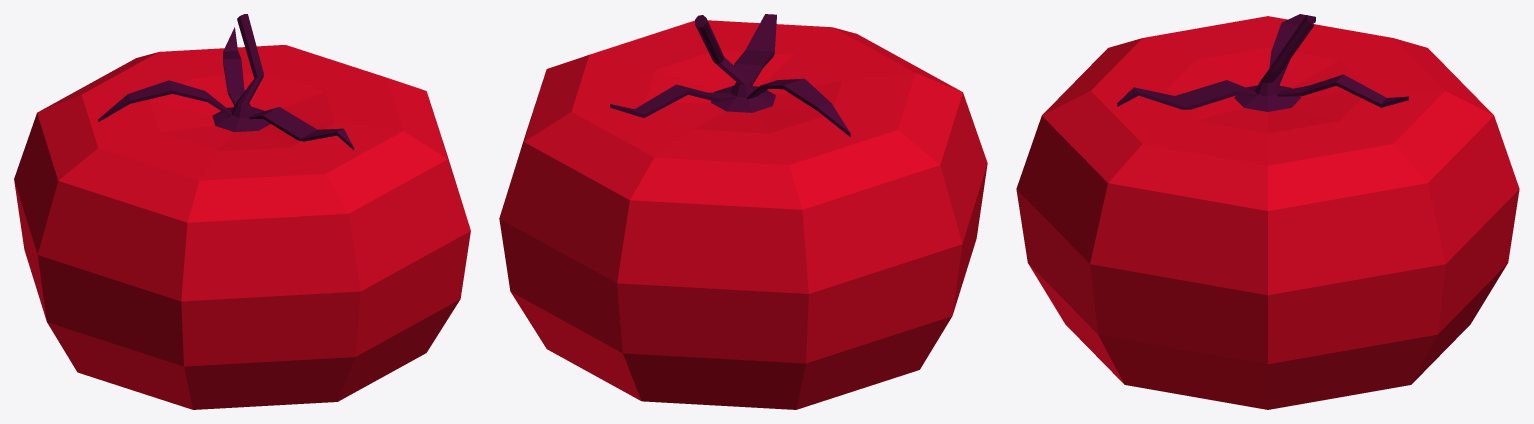
File: Tomato_01.fbx
3 renders of one model, left to right at view 1: azimuth 30°, elevation 25°; view 2: azimuth 150°, elevation 25°; view 3: azimuth 270°, elevation 25°, orthographic. The views are drawn at different scales.
Parts seen in each view (by area): view 1: Tomato_01; view 2: Tomato_01; view 3: Tomato_01.
Part boxes in pixels (<box>): Tomato_01: <box>14,14,470,409</box>; Tomato_01: <box>499,14,987,409</box>; Tomato_01: <box>1016,14,1519,409</box>.
Size of the model in its own units: 6.13 by 4.69 by 6.13.
